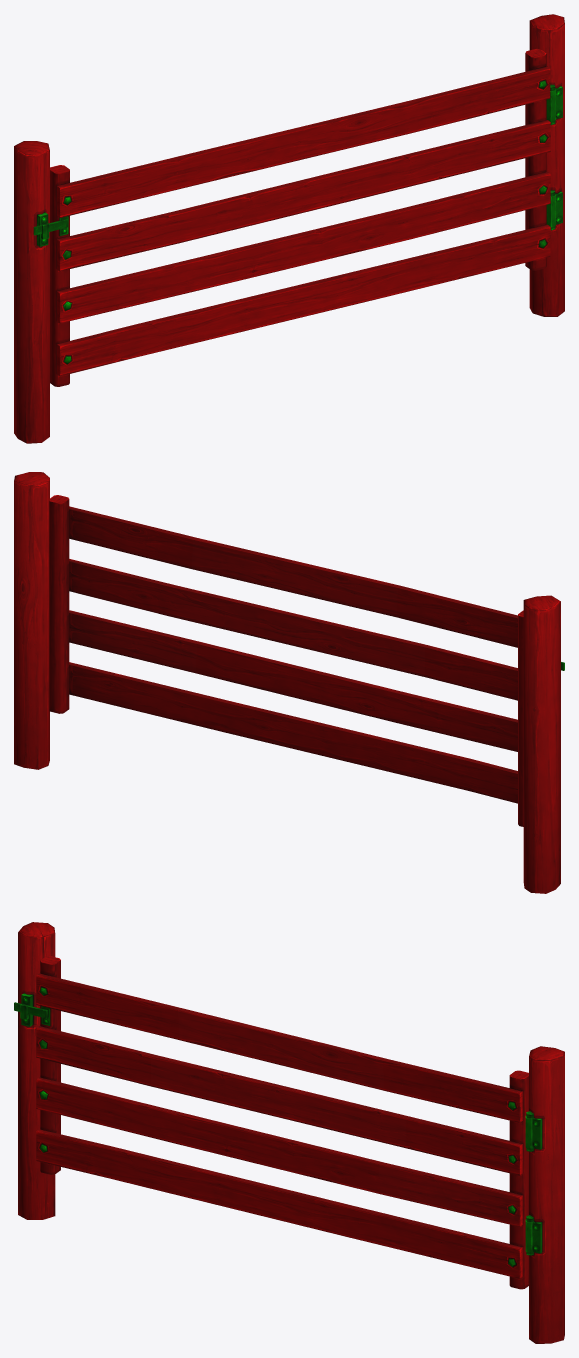
File: Gate01.fbx
3 renders of one model, top to bottom at view 1: azimuth 30°, elevation 25°; view 2: azimuth 150°, elevation 25°; view 3: azimuth 330°, elevation 25°, orthographic.
Visible parts, largest first — view 1: Leaf01_LOD0, Gate01_LOD0; view 2: Leaf01_LOD0, Gate01_LOD0; view 3: Leaf01_LOD0, Gate01_LOD0.
Part boxes in pixels (x1,y1,x2,y2): Leaf01_LOD0: (33,48,550,386); Gate01_LOD0: (14,14,564,443); Leaf01_LOD0: (49,495,564,826); Gate01_LOD0: (14,472,560,893); Leaf01_LOD0: (14,956,528,1289); Gate01_LOD0: (18,922,564,1343).
Size of what is drawn, in the model's own units: 1.99 by 1.01 by 0.1574.
